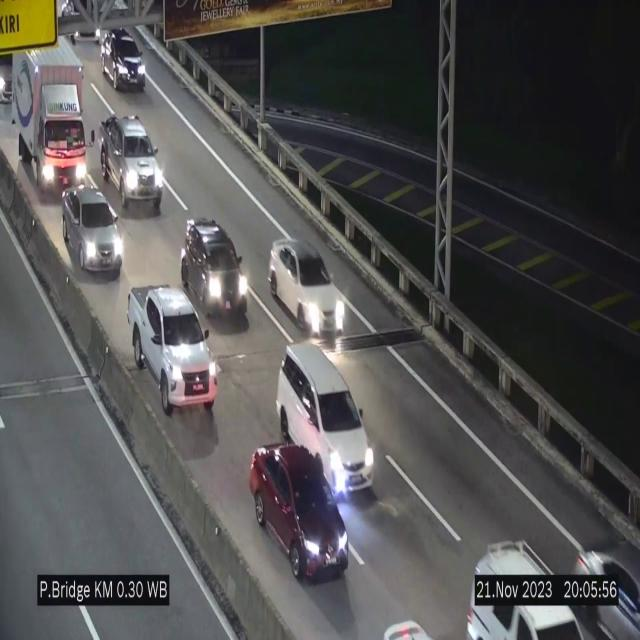Car: (251, 442, 357, 588), (277, 342, 376, 494), (456, 533, 587, 640), (126, 278, 218, 419), (568, 515, 639, 640), (268, 238, 344, 334), (98, 114, 164, 208), (60, 185, 124, 278), (99, 28, 145, 90)
Truck: (8, 42, 96, 192), (180, 211, 251, 321)
